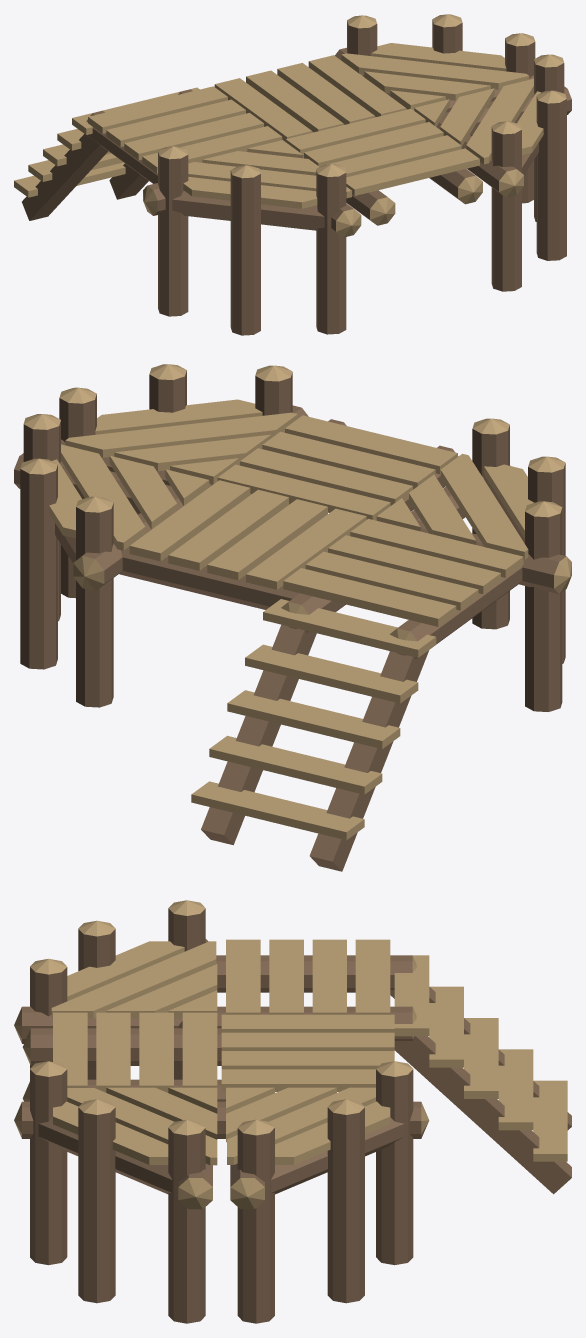
The model's file is WoodenPlatformOne.fbx.
The picture shows the model from 3 angles, top to bottom: view 1: azimuth 30°, elevation 25°; view 2: azimuth 150°, elevation 25°; view 3: azimuth 270°, elevation 25°; orthographic projection. The views are drawn at different scales.
Visible parts, largest first — view 1: mergedBlocks; view 2: mergedBlocks; view 3: mergedBlocks.
Boxes of the visible parts, x1,y1,x2,y2 form: mergedBlocks: (14,14,571,335); mergedBlocks: (14,364,571,871); mergedBlocks: (14,900,571,1323).
Size of the model in its own units: 34 by 14.44 by 32.24.
